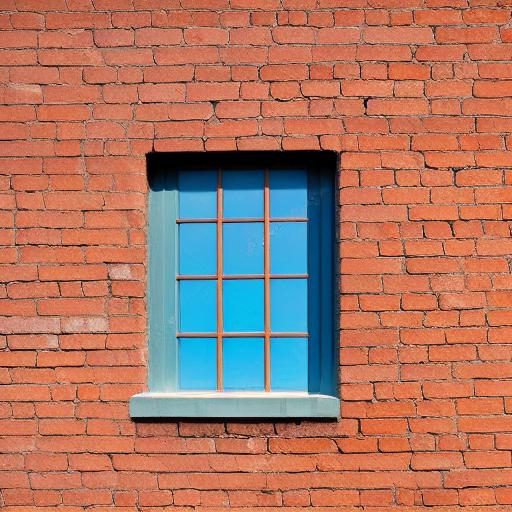Window: (129, 151, 344, 421)
